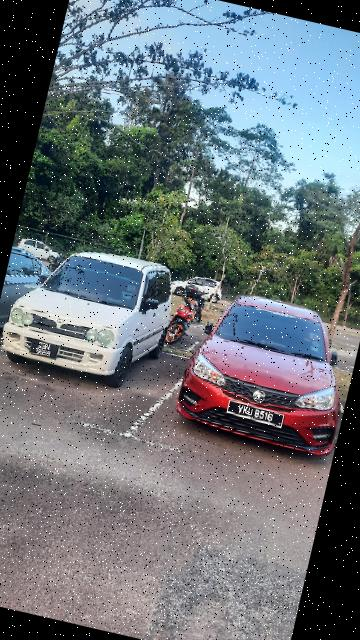License_Plate: (224, 396, 290, 433), (31, 338, 65, 367)
car: (170, 283, 360, 469), (1, 232, 184, 402)
